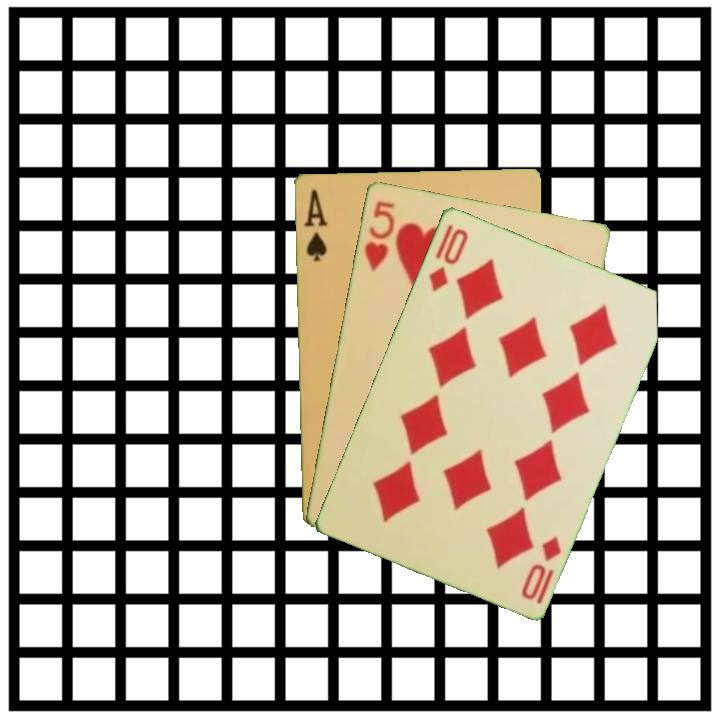10d: (517, 532, 564, 603), (425, 224, 471, 294)
5h: (360, 196, 397, 274)
As: (300, 186, 330, 264)
